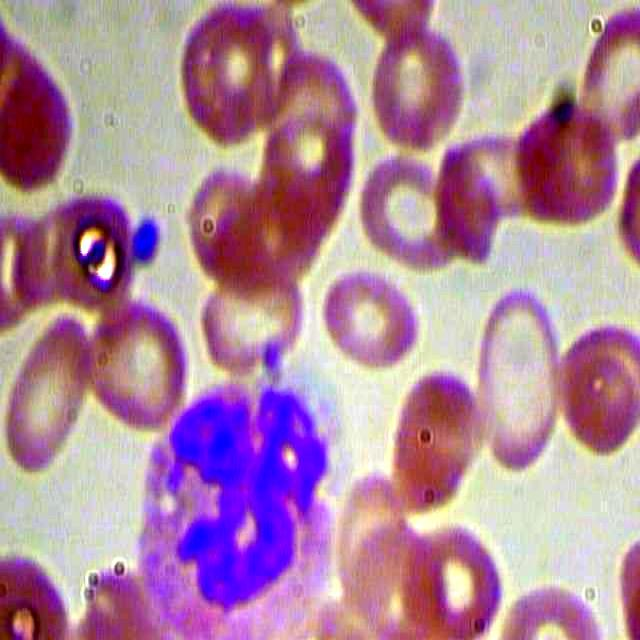Platelets: (127, 208, 167, 268)
RBC: (470, 285, 560, 484), (176, 2, 291, 150), (1, 310, 97, 486), (559, 283, 640, 477), (513, 100, 625, 236), (380, 364, 476, 519), (88, 289, 192, 432), (396, 522, 509, 640), (354, 155, 467, 272), (370, 23, 460, 164), (202, 259, 304, 377), (316, 269, 426, 368)
WBC: (132, 365, 355, 640)
